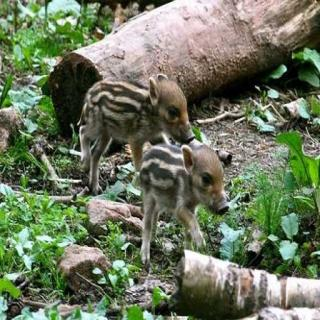Pig: (52, 58, 200, 178), (128, 136, 236, 242)
